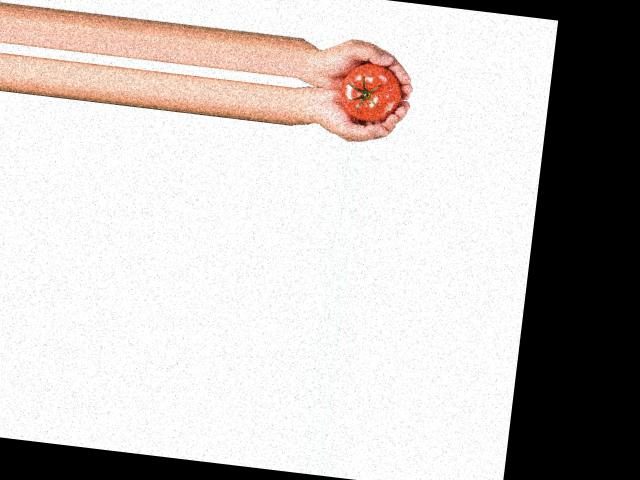tomato: (338, 59, 403, 124)
